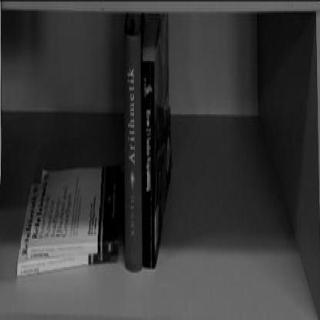book-spine: (123, 33, 142, 272), (141, 59, 156, 267), (16, 250, 113, 275), (27, 239, 121, 260)
